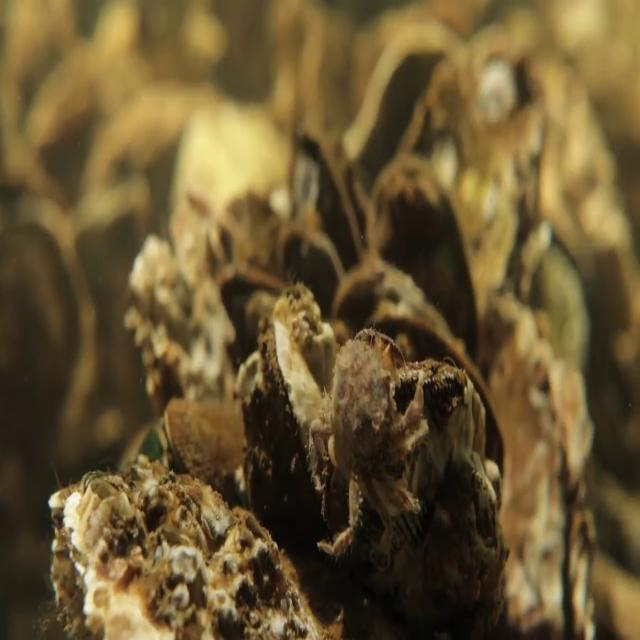Oyster-Closed: (38, 460, 338, 639), (488, 296, 598, 635), (258, 310, 322, 494), (162, 398, 247, 513)
